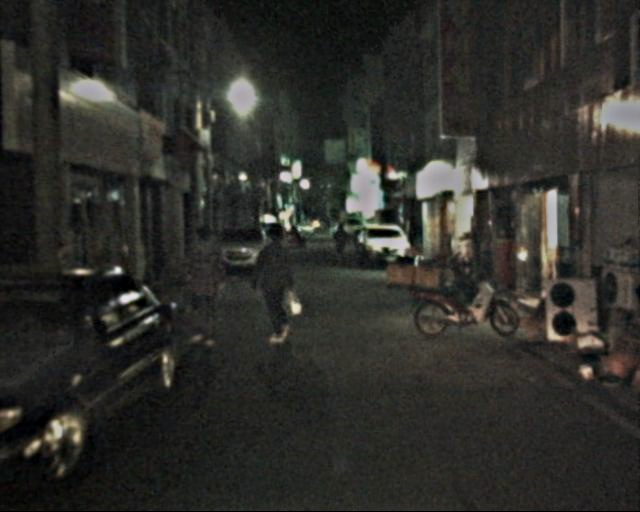person: (251, 223, 302, 344), (181, 225, 230, 348), (333, 223, 349, 258)
